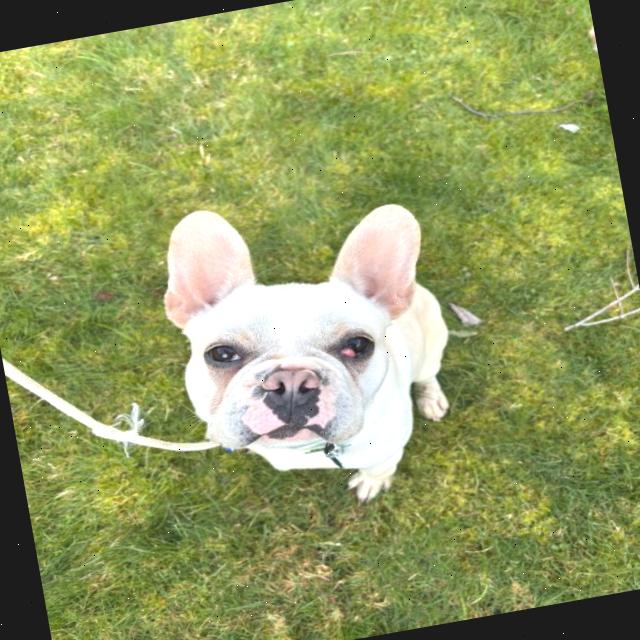french_bulldog_dog: (135, 160, 462, 486)
